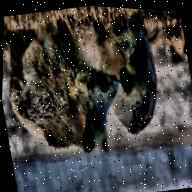boar: (1, 2, 133, 178), (89, 6, 184, 139)
